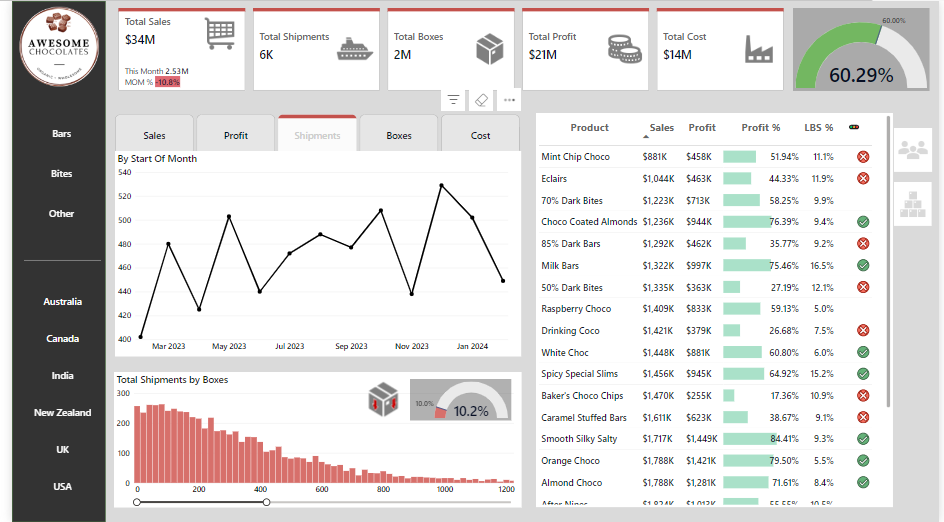

This screenshot's page, from the dashboard's own definition file:
{"tool":"powerbi","page":{"name":"SalesReport","canvas":[1920,1080],"ordinal":2},"visuals":[{"type":"cardVisual","fields":{"Data":["_Measures.Total Sales","_Measures.Total Shipments","_Measures.Total Boxes","_Measures.Total Profit","_Measures.Total Cost"]},"box":[214.9,14.9,1389.4,172.3],"z":0},{"type":"gauge","fields":{"Y":["_Measures.Profit %"]},"box":[1619.1,14.9,283,172.3],"z":1000},{"type":"advancedSlicerVisual","fields":{"Values":["Measure Selector.Measure Selector"]},"box":[213.8,231.1,842.4,95],"z":2000},{"type":"lineChart","title":" By Start Of Month","fields":{"Y":["_Measures.Total Boxes"],"Category":["calendar.Start of Month"]},"box":[213.8,311,842.4,425.5],"z":3000},{"type":"clusteredColumnChart","title":"Total Shipments by Boxes ","fields":{"Category":["shipments.Boxes (bins)"],"Y":["_Measures.Total Shipments"]},"box":[211.7,769,844.6,280.8],"z":4000},{"type":"gauge","fields":{"Y":["_Measures.LBS %"]},"box":[825.1,784.1,209.5,86.4],"z":5000},{"type":"image","box":[607,777.6,324,97.2],"z":6000},{"type":"tableEx","title":"Product Table","fields":{"Values":["products.Product","_Measures.Total Sales","_Measures.Total Profit","_Measures.Profit %","_Measures.LBS %","_Measures.Profit Target"]},"box":[1087.2,231.9,740.4,817],"z":8000},{"type":"image","title":"People Icon","box":[1827.7,263.8,78.7,91.5],"z":9000},{"type":"image","title":"Product Icon","box":[1827.7,374.5,78,91],"z":10000},{"type":"shape","box":[0,0,194.1,1080.4],"z":11000},{"type":"image","box":[9.8,0,174.5,188.2],"z":12000},{"type":"advancedSlicerVisual","fields":{"Values":["locations.Geo"]},"box":[24.4,580,160,468.9],"z":13000},{"type":"advancedSlicerVisual","fields":{"Values":["products.Category"]},"box":[35.6,231.1,135.6,253.3],"z":14000},{"type":"shape","box":[24.4,508.9,160,60],"z":15000}]}

Visuals, with their boxes in screenshot pixels (x1, y1, x2, y2), scaled from the page's 1920x1080 canvas onto the 944x522 screenshot:
cardVisual - _Measures.Total Sales x _Measures.Total Shipments: (left=106, top=7, right=789, bottom=90)
gauge - _Measures.Profit %: (left=796, top=7, right=935, bottom=90)
advancedSlicerVisual - Measure Selector.Measure Selector: (left=105, top=112, right=519, bottom=158)
" By Start Of Month" lineChart: (left=105, top=150, right=519, bottom=356)
"Total Shipments by Boxes " clusteredColumnChart: (left=104, top=372, right=519, bottom=507)
gauge - _Measures.LBS %: (left=406, top=379, right=509, bottom=421)
image: (left=298, top=376, right=458, bottom=423)
"Product Table" tableEx: (left=535, top=112, right=899, bottom=507)
"People Icon" image: (left=899, top=128, right=937, bottom=172)
"Product Icon" image: (left=899, top=181, right=937, bottom=225)
shape: (left=0, top=0, right=95, bottom=521)
image: (left=5, top=0, right=91, bottom=91)
advancedSlicerVisual - locations.Geo: (left=12, top=280, right=91, bottom=507)
advancedSlicerVisual - products.Category: (left=18, top=112, right=84, bottom=234)
shape: (left=12, top=246, right=91, bottom=275)
